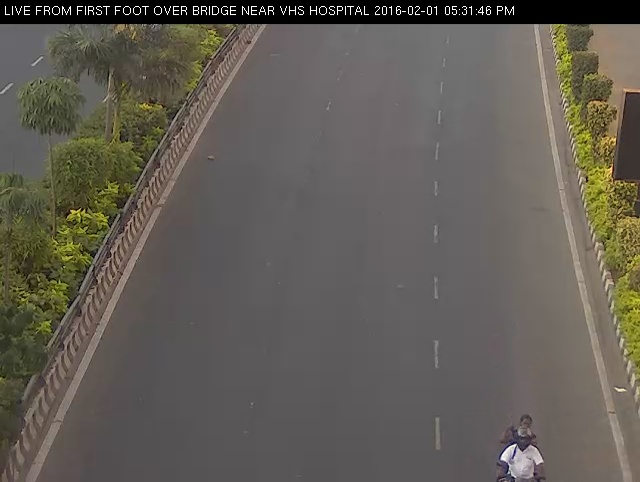Person: (493, 410, 553, 482)
